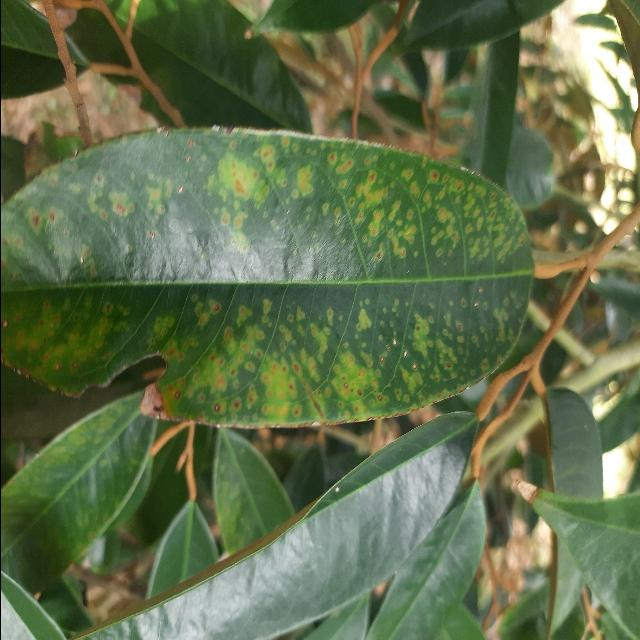Leaf Spot: (0, 119, 543, 449)
